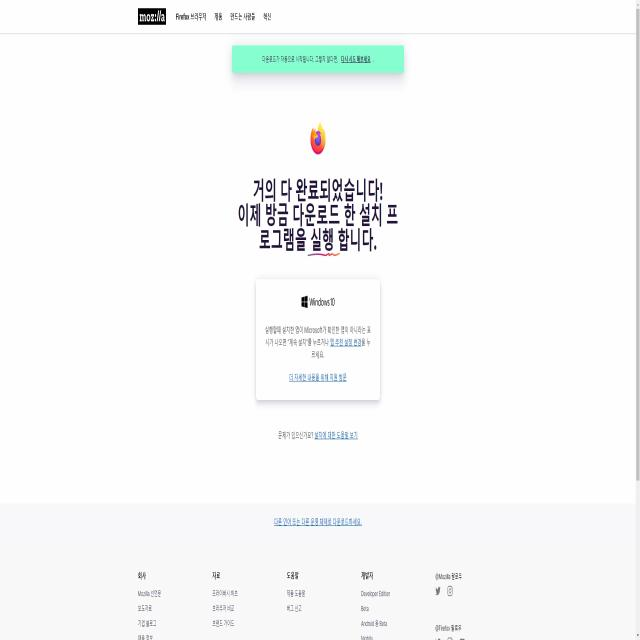tab-bar: (136, 2, 278, 32)
